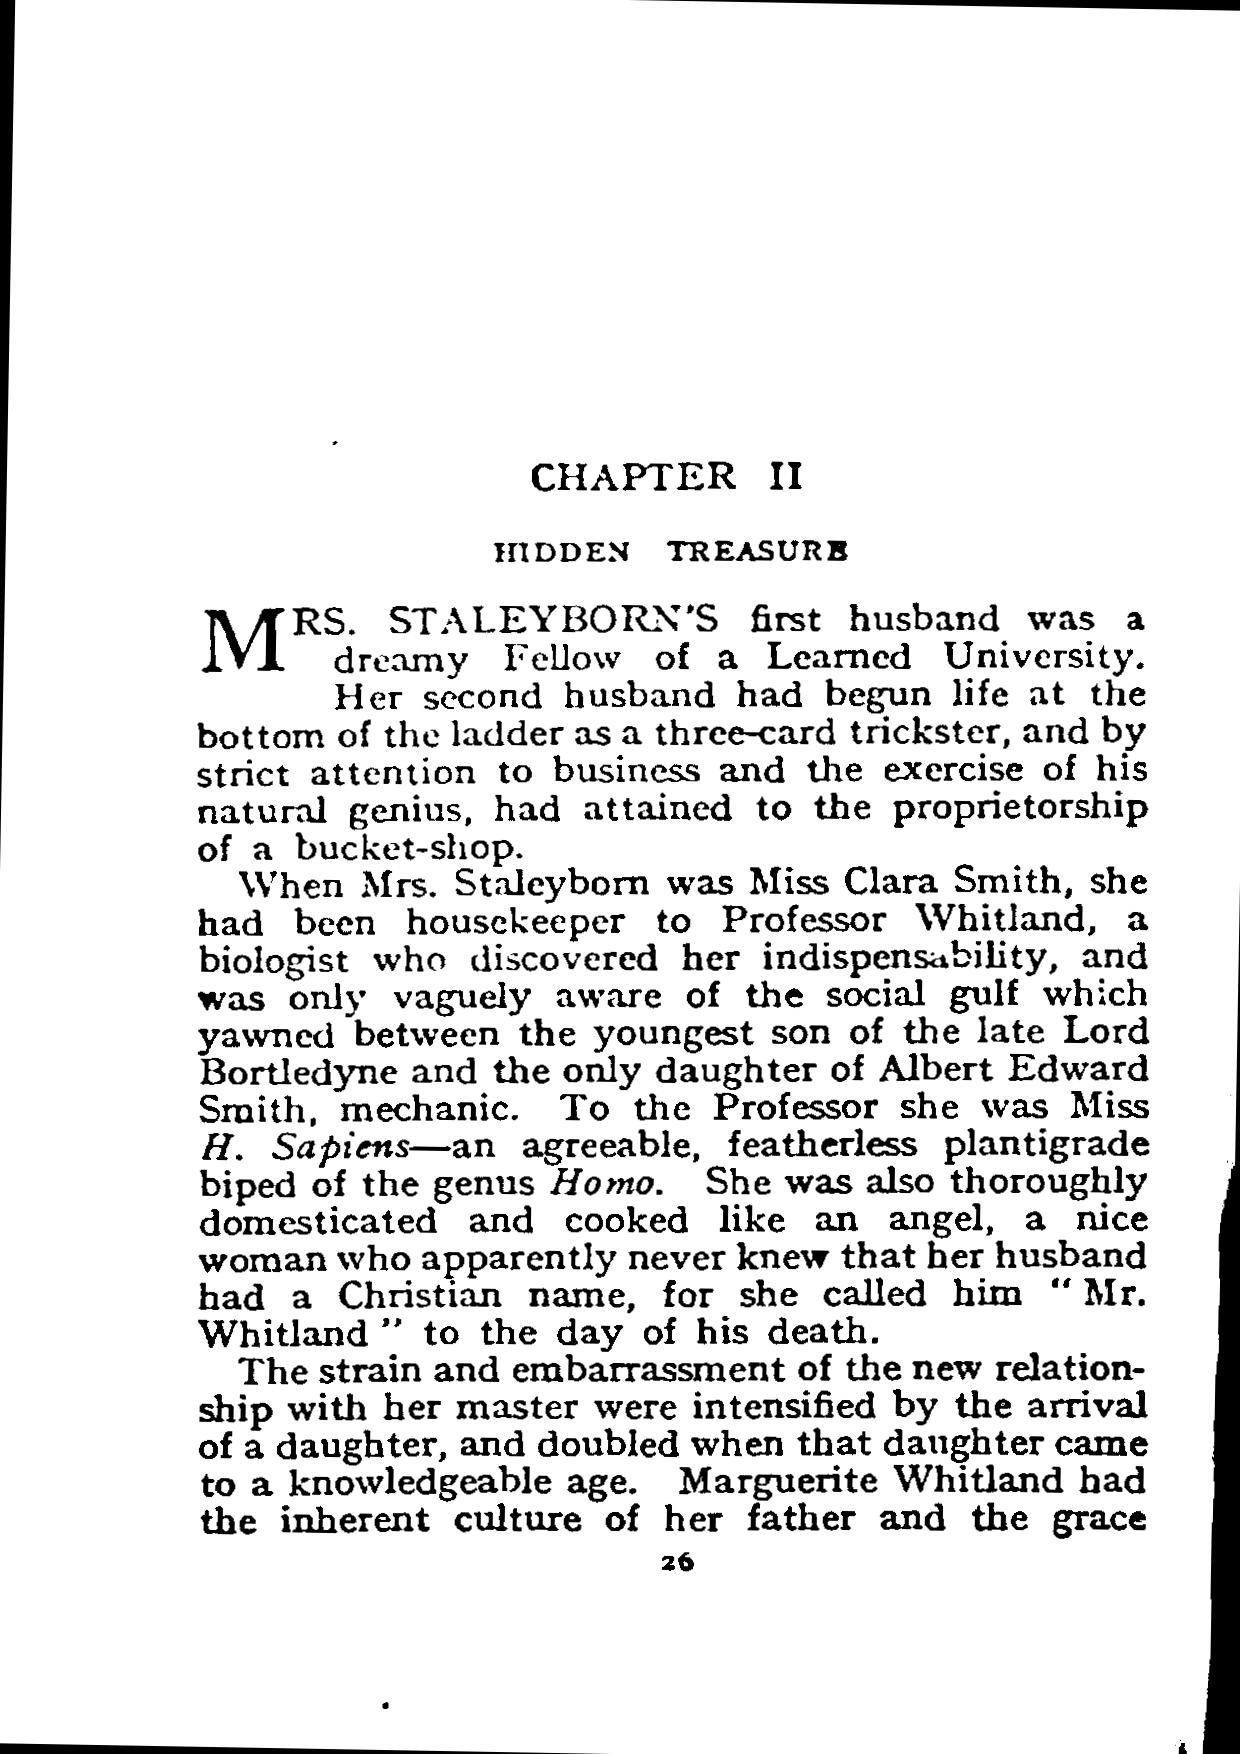chapter: (490, 458, 848, 565)
content: (195, 603, 1151, 1541)
content_pagenumber: (658, 1546, 695, 1576)
